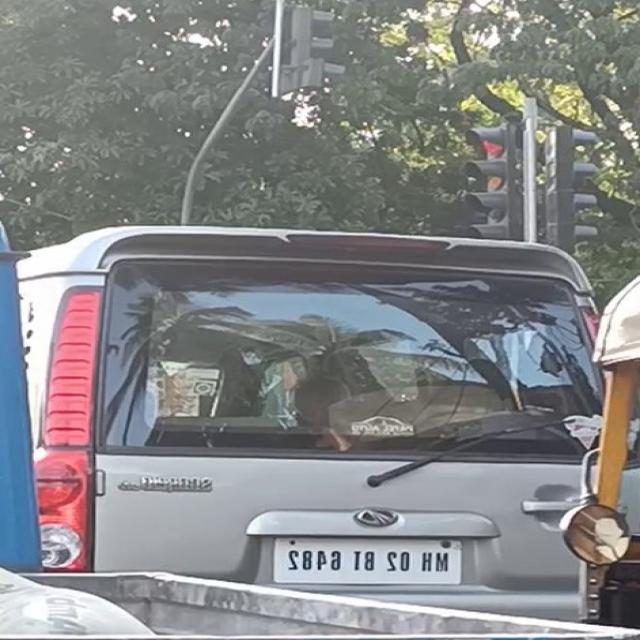license_plate: (259, 535, 472, 593)
